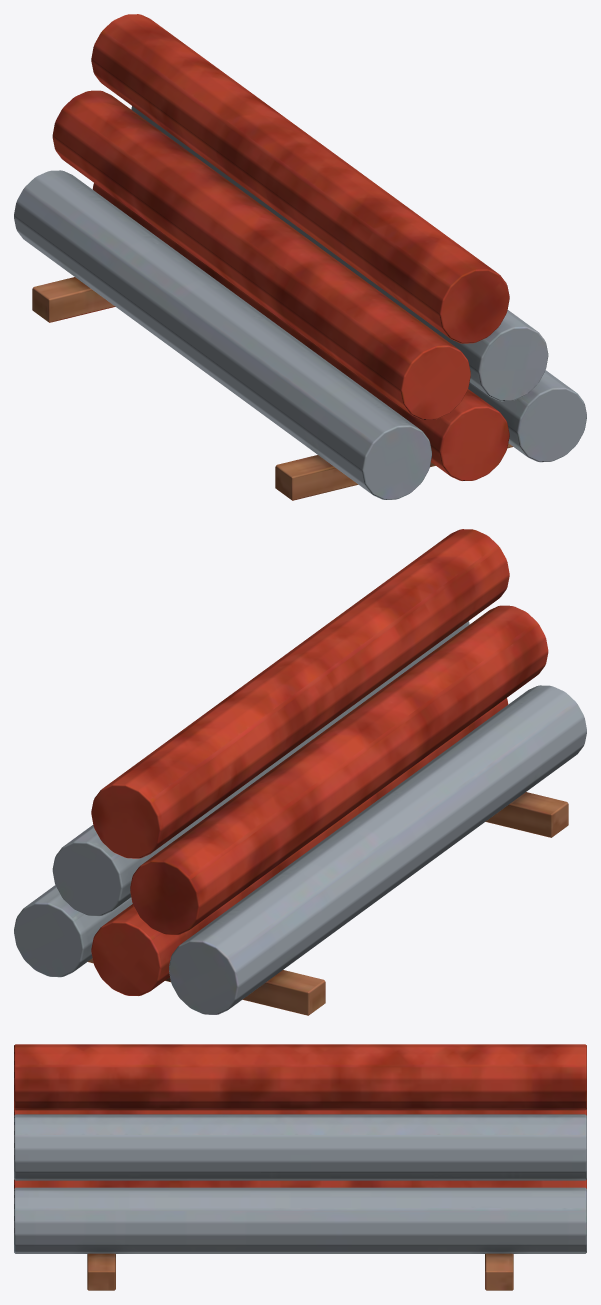
Rendered from pipe_stack_bundle.glb.
The picture shows the model from 3 angles, top to bottom: view 1: azimuth 30°, elevation 25°; view 2: azimuth 150°, elevation 25°; view 3: azimuth 270°, elevation 25°; orthographic projection. The views are drawn at different scales.
Parts seen in each view (by area): view 1: PipeStackBundle; view 2: PipeStackBundle; view 3: PipeStackBundle.
Boxes of the visible parts, x1,y1,x2,y2 form: PipeStackBundle: (14, 14, 586, 500); PipeStackBundle: (14, 529, 586, 1015); PipeStackBundle: (14, 1044, 586, 1290).
Bounding box in the file's own units: 1.65 × 1.31 × 3.6.
1 material, 1 textured.
